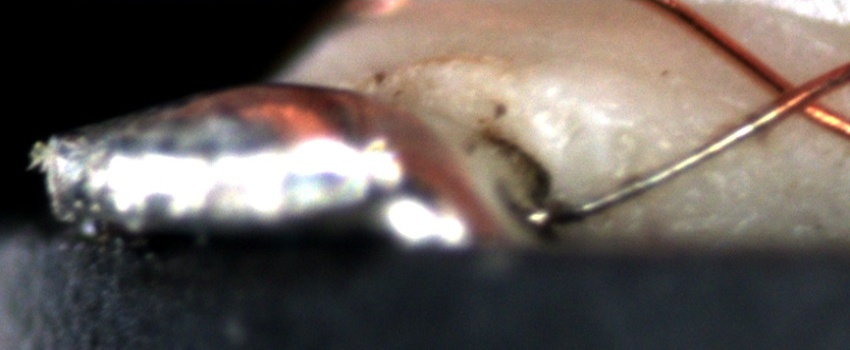CL: (753, 61, 841, 130)
TS: (536, 107, 778, 224)
